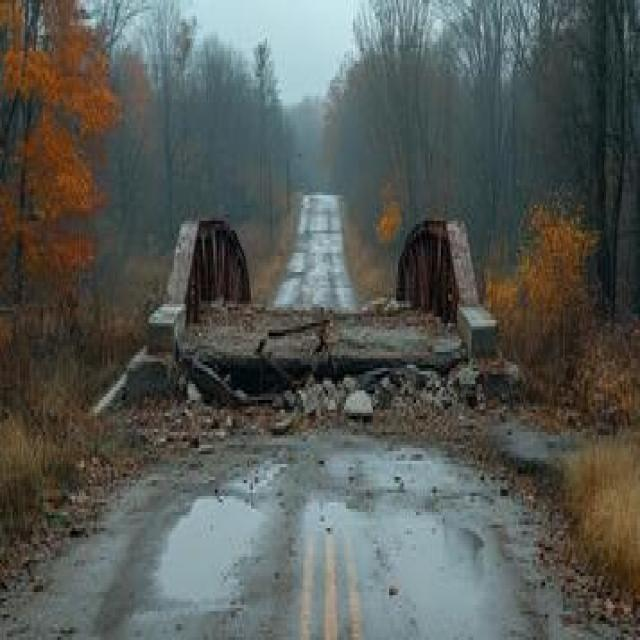road collapse: (14, 181, 640, 640)
